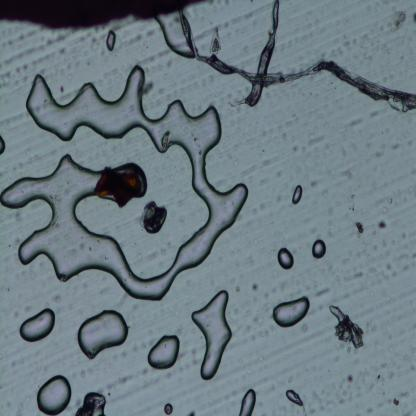Air bubble: (0, 66, 248, 303), (191, 289, 233, 381), (76, 305, 129, 360), (18, 305, 56, 343), (37, 373, 72, 414), (148, 330, 180, 371), (271, 296, 311, 328), (74, 388, 107, 415), (238, 388, 255, 415), (278, 246, 295, 271), (284, 387, 304, 407), (104, 30, 118, 54), (291, 183, 304, 206), (313, 239, 327, 260), (0, 133, 7, 154)
Background material: (329, 306, 367, 350), (142, 199, 169, 235), (4, 44, 41, 67), (385, 4, 409, 35), (304, 278, 331, 299), (104, 372, 134, 390), (9, 26, 37, 45), (142, 49, 166, 71), (9, 63, 29, 84), (254, 300, 271, 324), (208, 27, 222, 55), (102, 67, 124, 84), (88, 33, 104, 55), (122, 30, 143, 46), (380, 260, 398, 278), (45, 33, 68, 46), (306, 130, 323, 147), (2, 114, 23, 125), (113, 348, 129, 362), (269, 402, 284, 416), (344, 269, 363, 280), (354, 220, 367, 235), (241, 164, 257, 176), (142, 378, 158, 390), (144, 82, 157, 95), (340, 391, 352, 405), (308, 177, 322, 189), (260, 158, 275, 168), (342, 372, 356, 382), (378, 218, 389, 230), (339, 170, 355, 178), (349, 118, 364, 126), (145, 28, 157, 38), (164, 402, 174, 414), (338, 144, 348, 156), (275, 167, 285, 177), (279, 130, 288, 141), (410, 9, 416, 25), (371, 372, 383, 380), (390, 140, 399, 150), (270, 139, 280, 148), (189, 358, 200, 366), (250, 282, 258, 293), (362, 406, 372, 414), (298, 407, 306, 416), (263, 128, 270, 138), (58, 84, 66, 92), (190, 345, 197, 354), (165, 372, 173, 379), (311, 407, 318, 415), (376, 151, 384, 158), (393, 399, 400, 407), (256, 328, 262, 337), (401, 392, 411, 397), (298, 148, 308, 153), (406, 127, 410, 139), (222, 21, 228, 29), (234, 160, 240, 168), (290, 136, 296, 144), (406, 140, 413, 146), (410, 366, 416, 373), (292, 145, 298, 152), (188, 411, 196, 416), (258, 356, 264, 362), (142, 367, 148, 373), (224, 0, 230, 6), (248, 369, 253, 376), (227, 154, 232, 161), (303, 324, 308, 331), (266, 128, 274, 132), (61, 48, 66, 54), (235, 287, 240, 293), (258, 401, 262, 408), (264, 332, 268, 338), (242, 28, 245, 34)
Cellulose filter fibre: (179, 8, 416, 107), (238, 0, 281, 110)
Fragment: (93, 167, 142, 207)
Pen: (0, 0, 211, 29)
